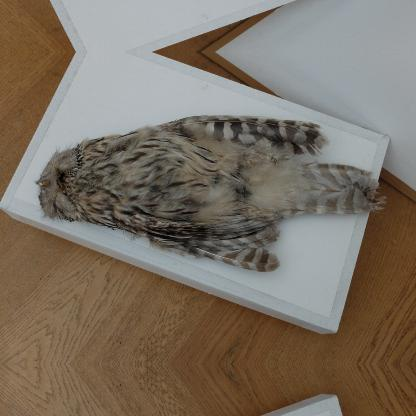Bird: (29, 108, 360, 264)
